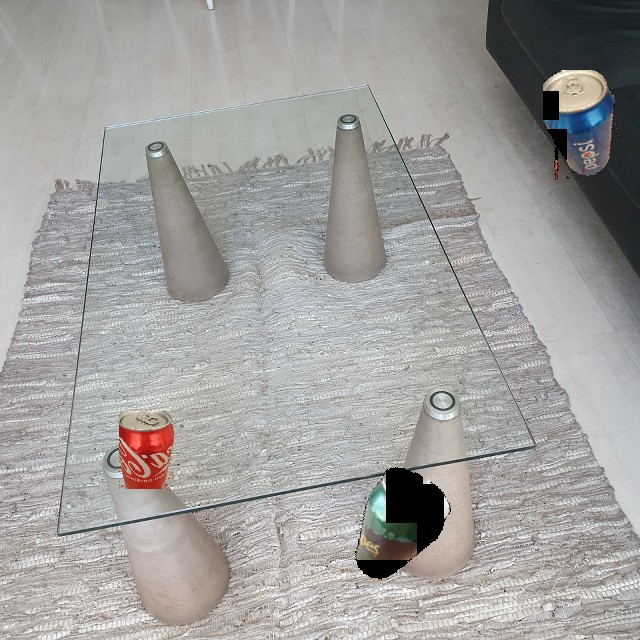coca cola: (119, 411, 174, 489)
pepsi: (543, 70, 626, 180)
schweppes: (335, 459, 459, 596)
